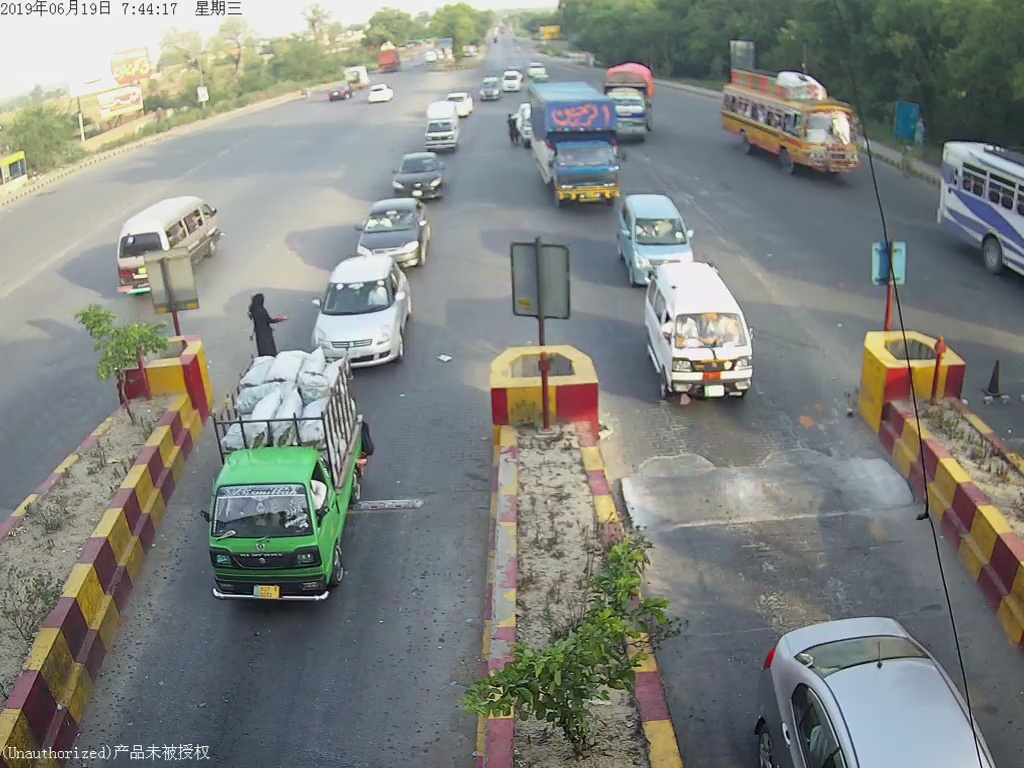Cat-1: (207, 356, 373, 614), (641, 276, 760, 408), (314, 261, 414, 361), (617, 202, 702, 264), (355, 198, 429, 259)
Cat-2: (524, 88, 617, 205)
